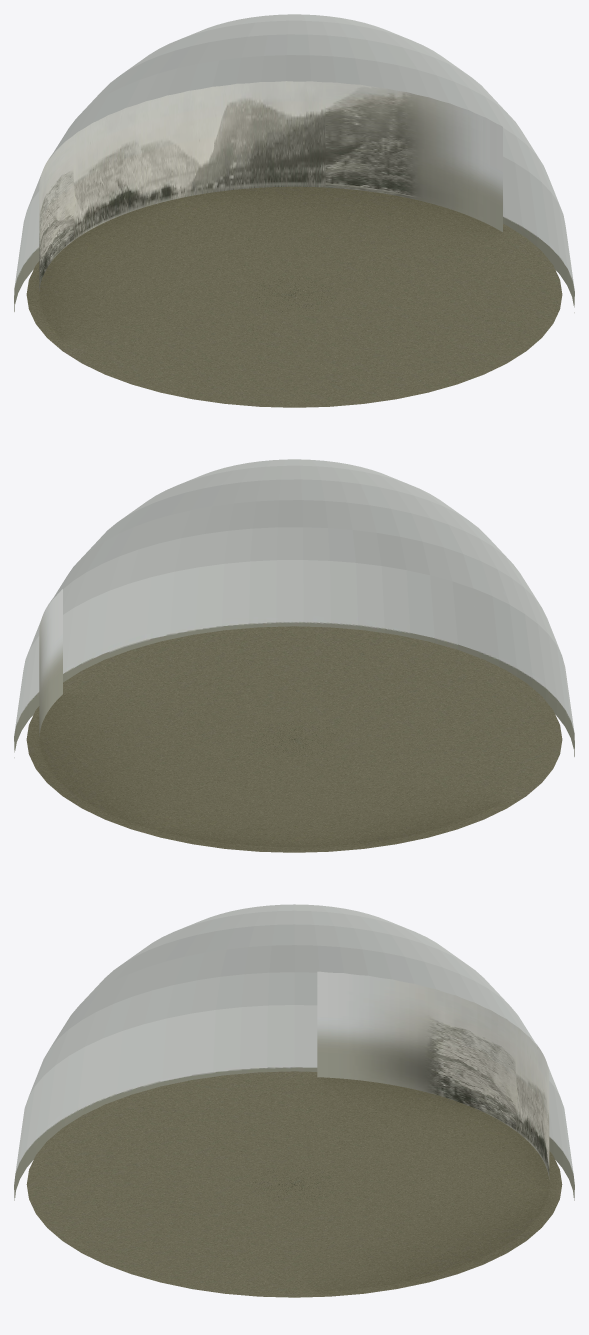
The model's file is muir-hetch-hetchy.glb.
3 renders of one model, top to bottom at view 1: azimuth 30°, elevation 25°; view 2: azimuth 150°, elevation 25°; view 3: azimuth 270°, elevation 25°, orthographic.
Parts seen in each view (by area): view 1: meadow, artifact_view_1911, sky_dome; view 2: meadow, sky_dome, artifact_view_1911; view 3: meadow, sky_dome, artifact_view_1911.
Boxes of the visible parts, box(x1,y1,x2,y2) form: meadow: box(26, 186, 562, 407); artifact_view_1911: box(39, 81, 502, 290); sky_dome: box(14, 14, 574, 312); meadow: box(26, 626, 562, 852); sky_dome: box(14, 459, 574, 757); artifact_view_1911: box(39, 589, 62, 736); meadow: box(26, 1071, 562, 1297); sky_dome: box(14, 904, 574, 1200); artifact_view_1911: box(317, 971, 549, 1179).
Size of the model in its own units: 572 by 306 by 572.
Materials: 3 (2 with a texture image).
